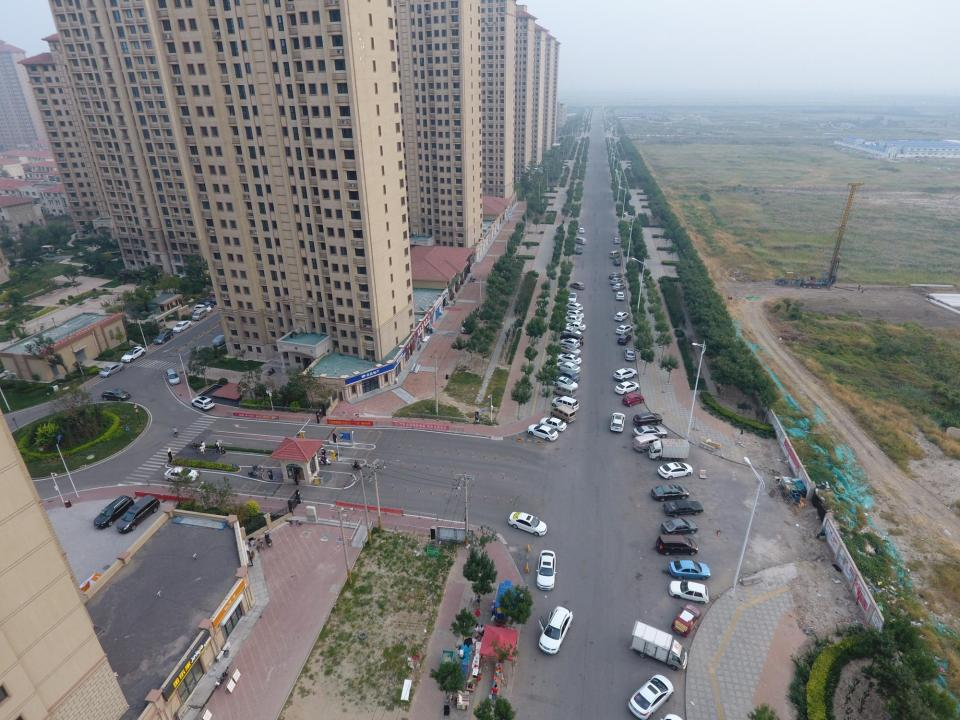car: (628, 674, 673, 720), (538, 606, 573, 654), (117, 494, 160, 533), (93, 495, 134, 528), (671, 604, 702, 637), (508, 511, 548, 536), (669, 579, 709, 604), (656, 534, 698, 556), (669, 560, 711, 580), (536, 550, 556, 590), (663, 500, 703, 518), (651, 484, 689, 502), (660, 518, 698, 536), (658, 462, 693, 480), (527, 423, 558, 441), (164, 467, 198, 482), (633, 412, 663, 428), (633, 425, 668, 438), (99, 362, 125, 378), (120, 346, 146, 362), (539, 418, 567, 432), (100, 389, 130, 402), (553, 376, 578, 391), (552, 396, 578, 410), (191, 396, 215, 411), (614, 382, 640, 395), (614, 368, 638, 382), (555, 370, 580, 383), (153, 329, 174, 344), (556, 361, 580, 374), (622, 393, 644, 407), (610, 413, 626, 432), (557, 354, 582, 366), (560, 343, 580, 356), (166, 368, 180, 385), (560, 332, 583, 342), (173, 320, 191, 332), (615, 324, 633, 335), (212, 335, 230, 346), (560, 338, 580, 347), (560, 327, 582, 335), (563, 315, 582, 324), (565, 309, 584, 318), (194, 304, 213, 313), (617, 334, 632, 345), (566, 322, 586, 330), (624, 348, 636, 361), (564, 302, 583, 310), (614, 312, 629, 322), (569, 281, 585, 290), (197, 300, 214, 308), (201, 297, 218, 304), (612, 283, 626, 291), (610, 277, 623, 285), (609, 272, 623, 279), (568, 292, 577, 302), (616, 291, 624, 300), (614, 258, 621, 266), (576, 246, 582, 254), (578, 227, 585, 233), (614, 238, 620, 243)
truck: (630, 620, 687, 671), (648, 438, 690, 462)
van: (632, 434, 665, 452), (550, 405, 576, 423), (553, 384, 576, 398), (191, 346, 212, 358), (192, 308, 208, 321), (610, 250, 620, 259), (575, 237, 586, 245)
